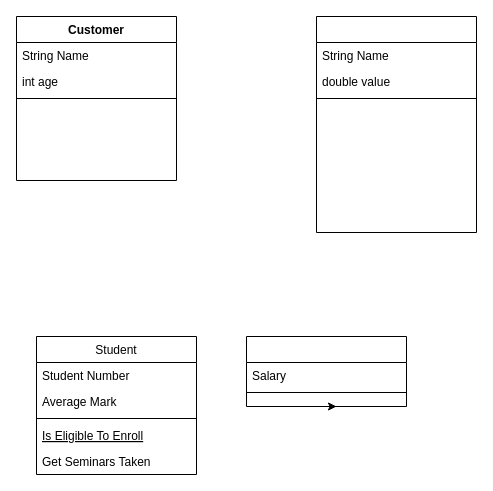
This 493x491 diagram has some shape labels left out. The shapes that lost their labels are listed below. From the top down, each one's box as (x1, y1, x2, y2) in pixels, then its label:
(316, 16, 476, 232): Item
(246, 336, 406, 406): Professor
